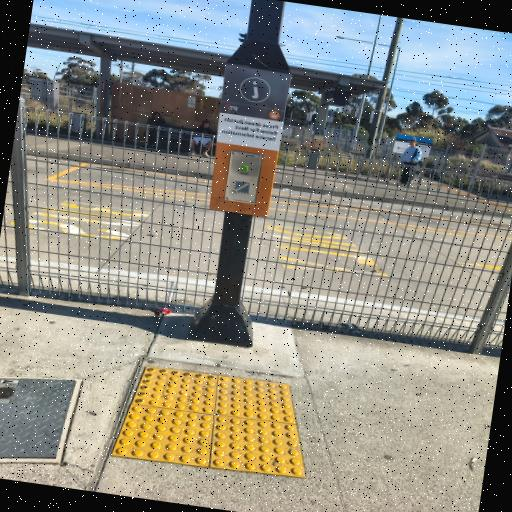signage: (202, 67, 295, 227)
tgsi: (113, 364, 305, 477)
